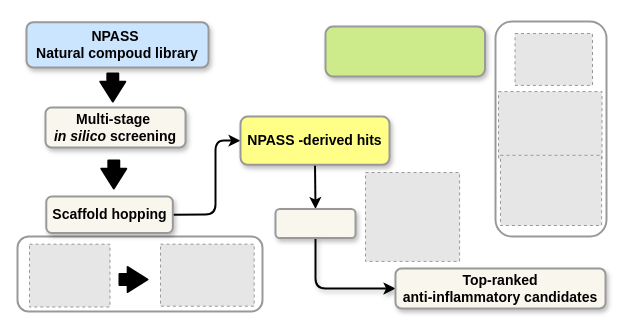
The diagram is 630 pixels wide and 334 high, and some of its shapes have lost their labels. Grey dashed boxes stand in for pictures. The shapes that lost their labels are listed below. From the top down, each one's centre as x and y in pixels, then its label:
At (x=406, y=52): "SHAP-identified important scaffolds".
At (x=316, y=225): "Docking".
